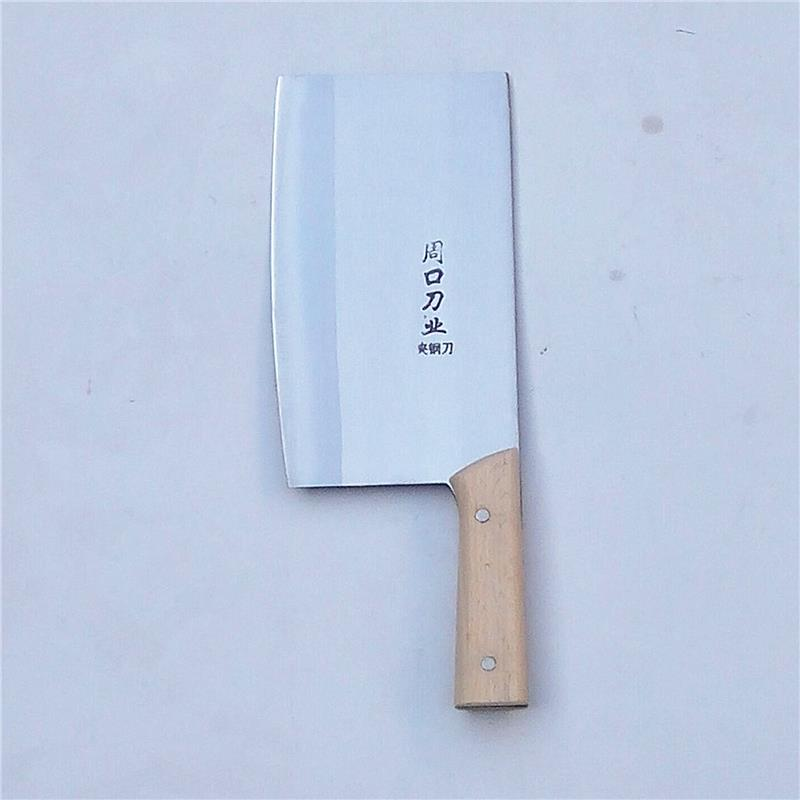knief: (244, 36, 606, 718)
